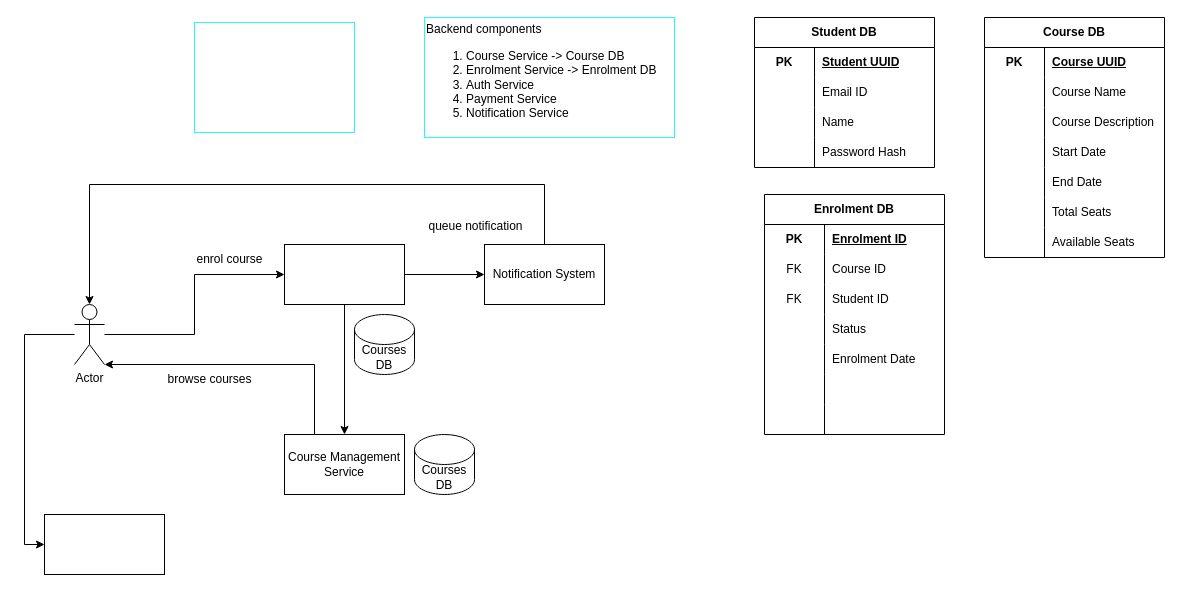
Image size: 1182x592. Some labels were removed from this diagram. Here are the shapes that lost their labels. From the top down, the centre of each, then its label:
point (274, 77): Course UI components Course listings Course dashboard Checkout Login
point (344, 274): Enrolment Service
point (104, 544): Auth Service
